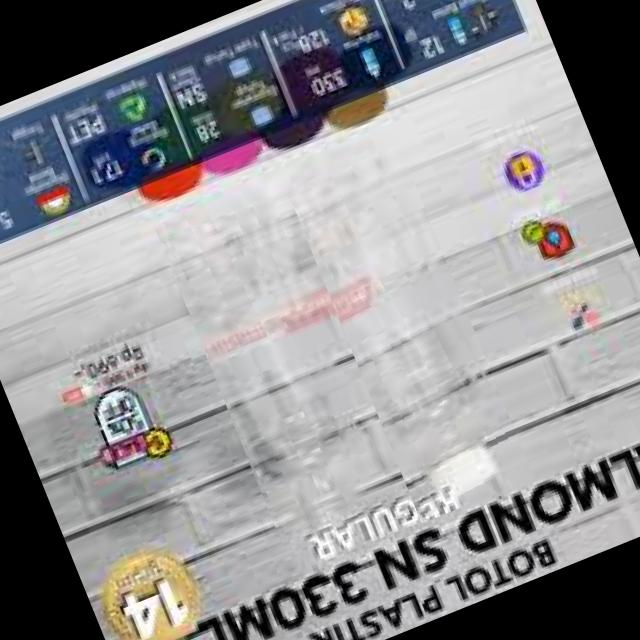plastic bottle: (282, 137, 532, 522), (152, 181, 389, 547)
